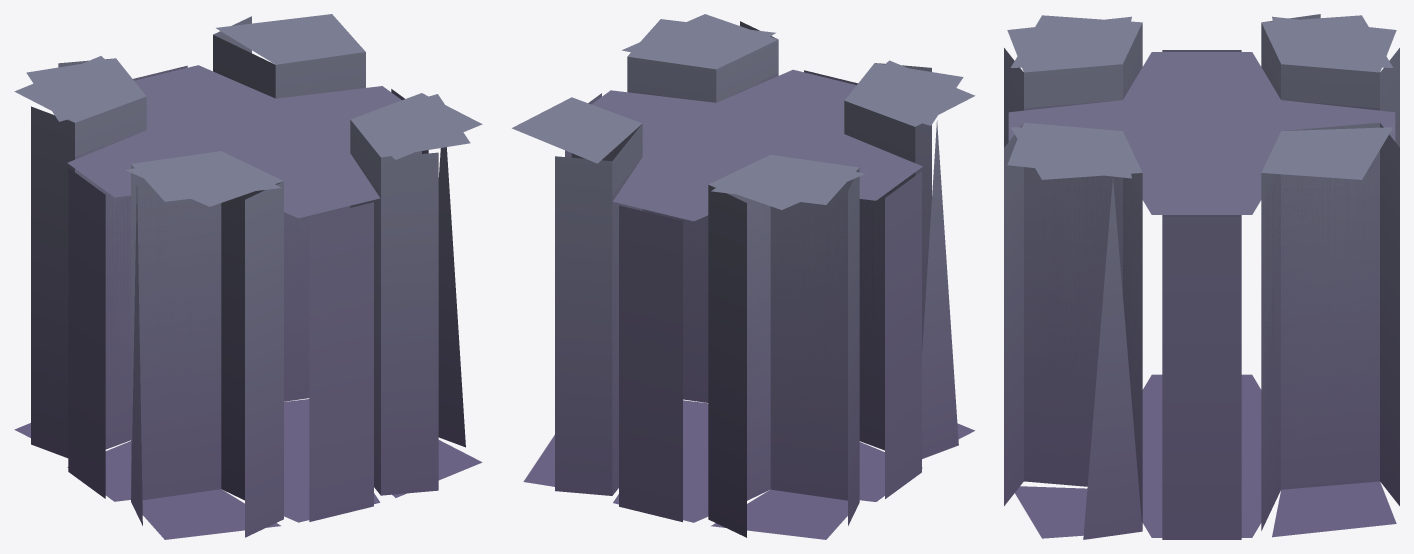
The model's file is coast_rocks_01_LOD1.glb.
The picture shows the model from 3 angles, left to right: view 1: azimuth 30°, elevation 25°; view 2: azimuth 150°, elevation 25°; view 3: azimuth 270°, elevation 25°; orthographic projection. The views are drawn at different scales.
Parts seen in each view (by area): view 1: rocks-high; view 2: rocks-high; view 3: rocks-high.
Boxes of the visible parts, x1=… form: rocks-high: x1=14, y1=14, x2=482, y2=539; rocks-high: x1=512, y1=14, x2=975, y2=539; rocks-high: x1=1004, y1=14, x2=1399, y2=539.
Size of what is drawn, in the model's own units: 1.3 by 1.3 by 1.3.
1 material, 1 textured.
